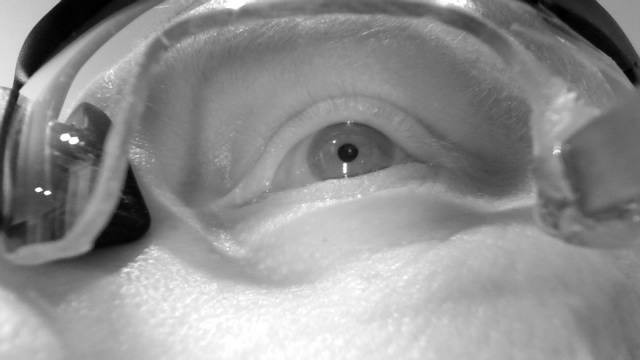pupil: (337, 143, 359, 163)
